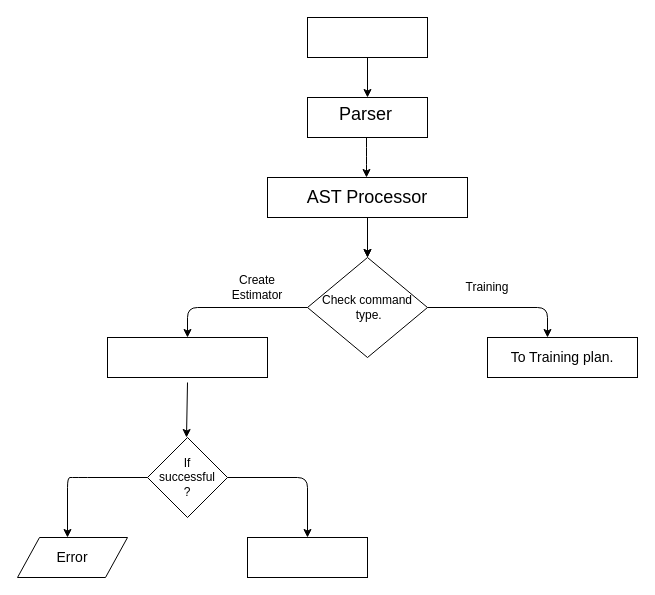
The diagram is 655 pixels wide and 595 high, and some of its shapes have lost their labels. Here are the shapes that lost their labels. From the top down, the centre of each, then its label:
At point (367, 37): "Lexer".
At point (187, 357): "Save Estimator meta-information in SQLite DB".
At point (307, 557): "Create and Save Model on Disk".
